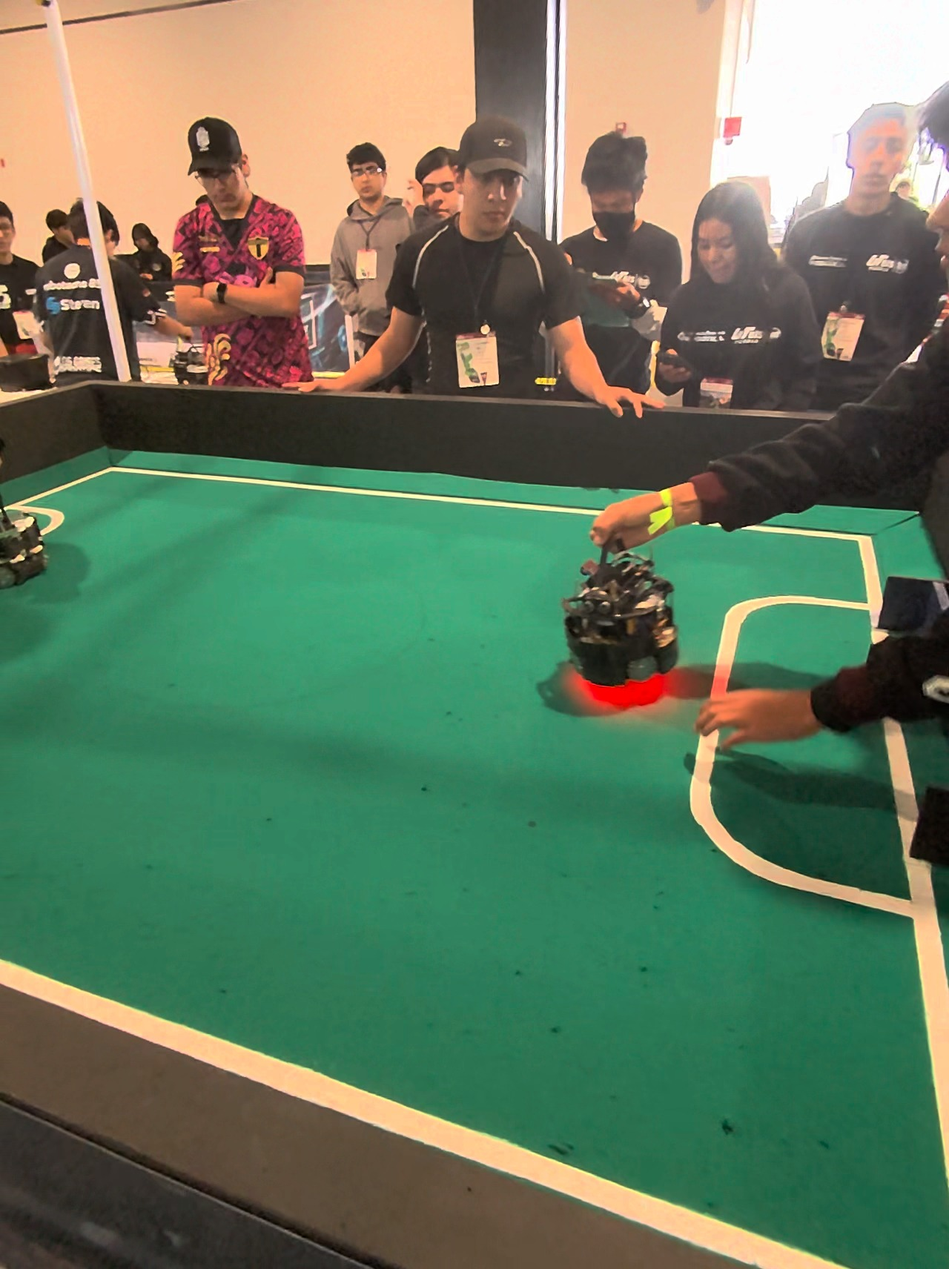Robot: (560, 523, 681, 706), (0, 465, 50, 595)
